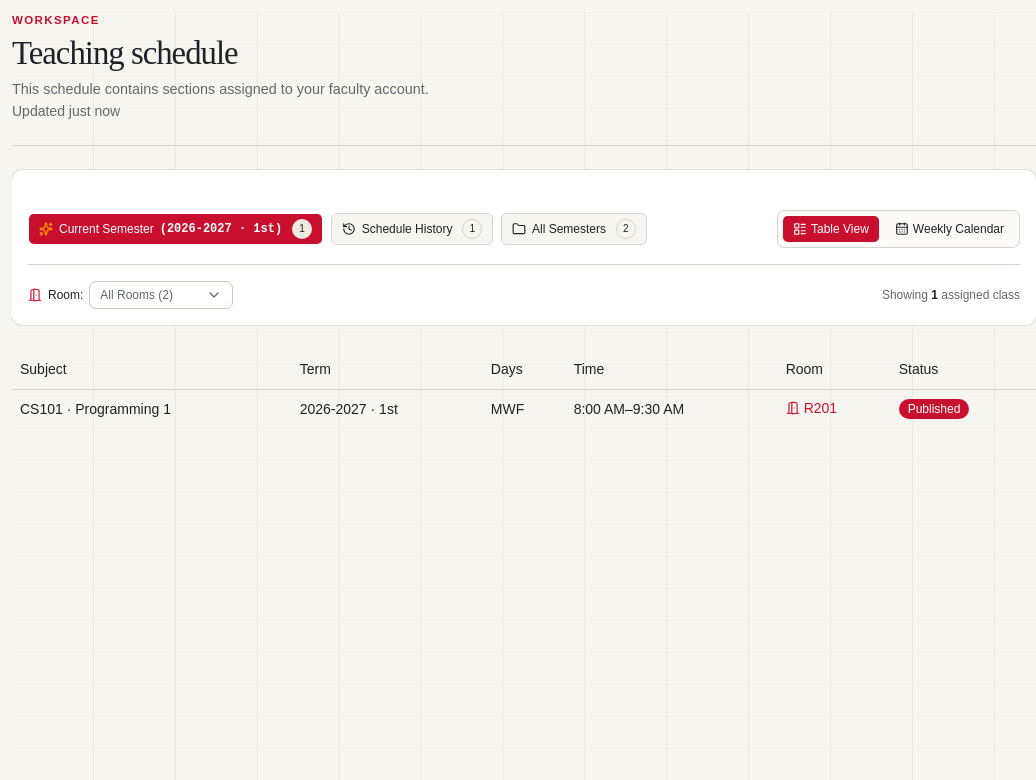
Test case: TeachingScheduleWorkspace › filters between current semester and schedule history
Expected: the cell "CS101 · Programming 1" is shown, [12, 390, 292, 428]
Expected: the text "CS102 · Programming 2" is not shown
// Click Schedule History
Step 1. Click the button "Schedule History 1" → (412, 229), box [331, 213, 493, 245]
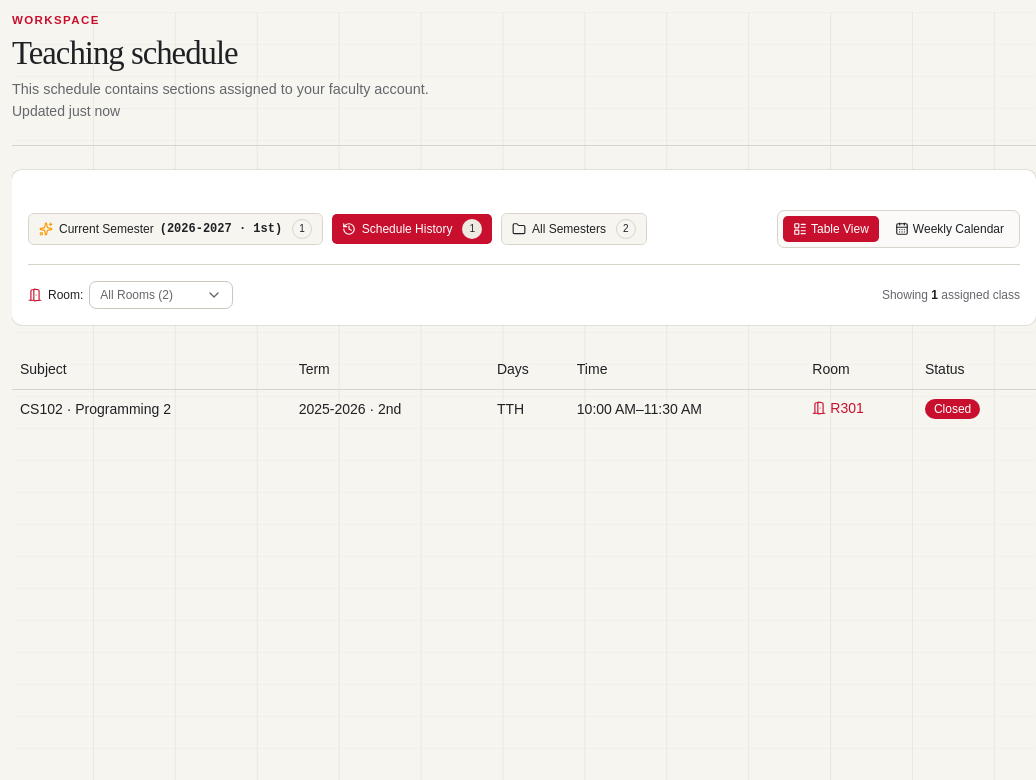
Result: the cell "CS102 · Programming 2" is shown at [12, 390, 291, 428]
Result: the text "CS101 · Programming 1" is gone
